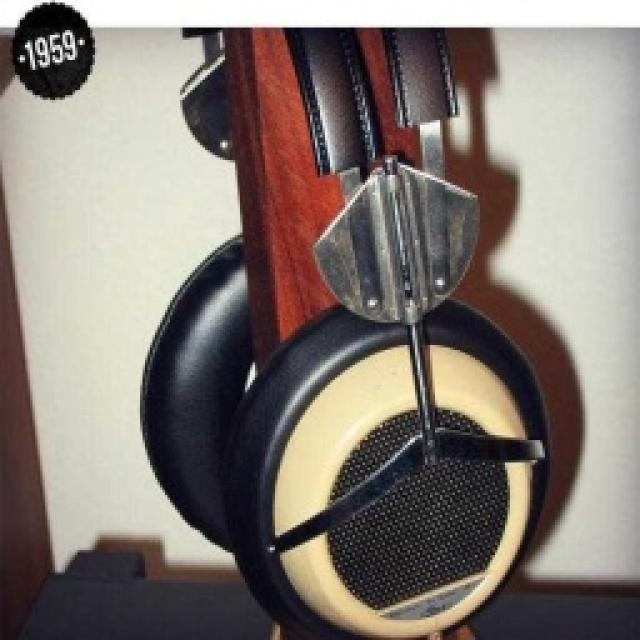headphones: (138, 28, 552, 638)
